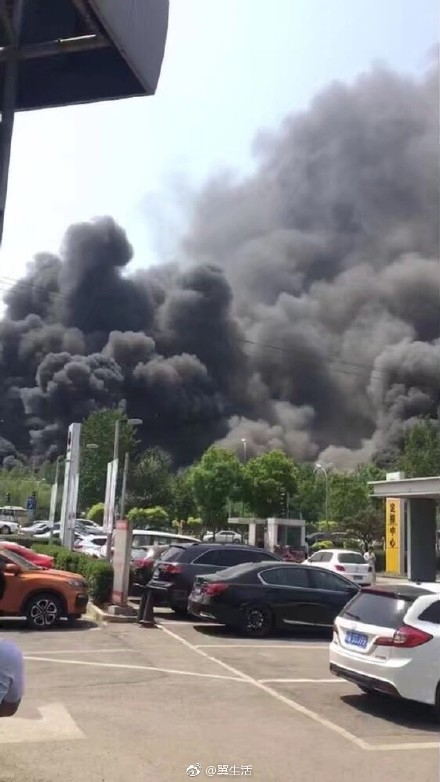smoke: (37, 112, 440, 461)
